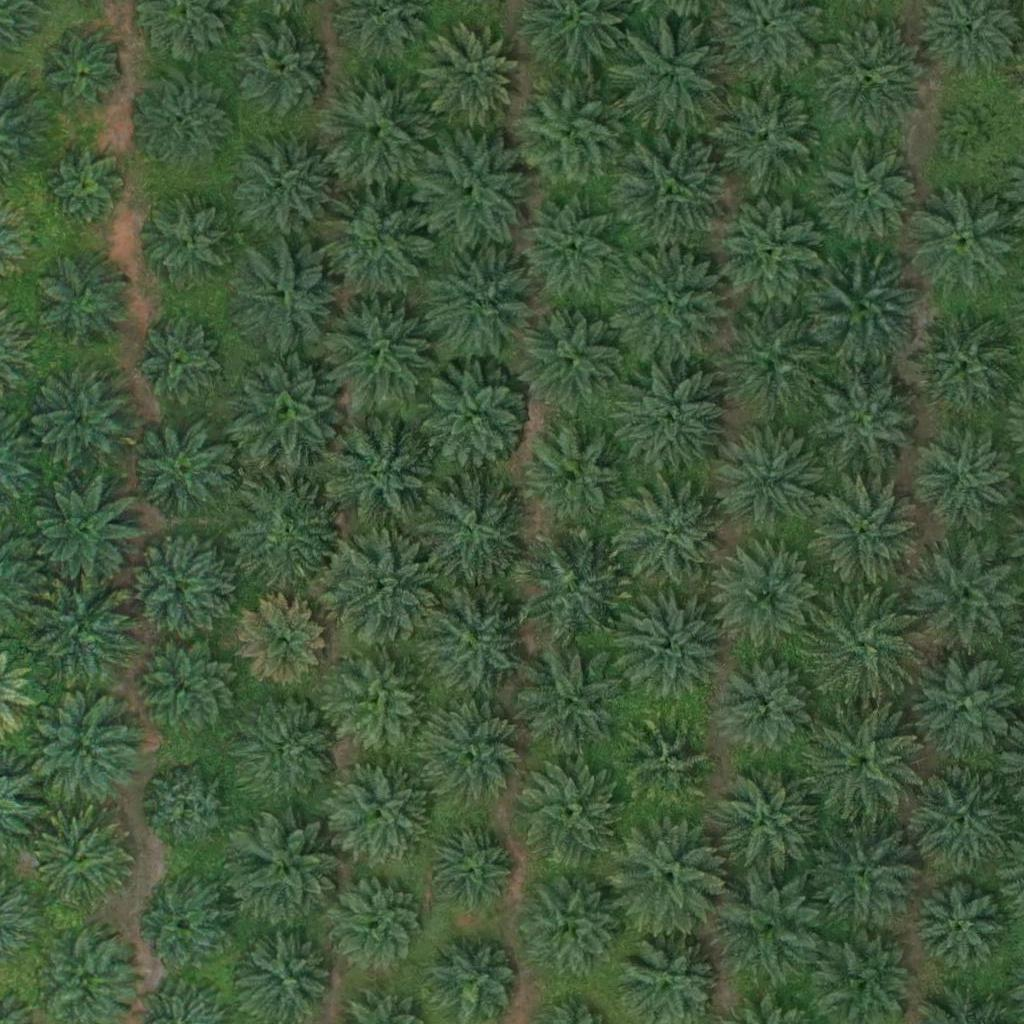Kelapa_Sawit: (28, 474, 141, 588), (511, 75, 624, 189), (616, 133, 729, 247), (616, 251, 729, 365), (715, 307, 828, 421), (716, 422, 829, 536), (25, 697, 138, 811), (615, 14, 728, 127), (224, 15, 337, 128), (225, 128, 338, 241), (231, 241, 344, 354), (231, 355, 344, 468), (321, 296, 434, 409), (323, 422, 436, 535), (326, 532, 439, 645), (612, 364, 725, 477), (619, 482, 732, 595), (712, 541, 825, 654), (908, 185, 1021, 298), (905, 307, 1018, 420), (807, 708, 920, 821), (806, 813, 919, 926), (709, 762, 822, 875), (418, 585, 531, 698), (26, 572, 139, 685), (717, 197, 829, 311), (809, 362, 921, 476), (808, 479, 920, 593), (911, 540, 1023, 654), (814, 23, 926, 136), (232, 477, 344, 590), (317, 74, 429, 187), (320, 190, 432, 303), (419, 134, 531, 247), (425, 246, 537, 359), (419, 358, 531, 471), (414, 471, 526, 584), (518, 301, 630, 414), (515, 531, 627, 644), (711, 79, 823, 192), (809, 255, 921, 368), (803, 588, 915, 701), (906, 767, 1018, 880), (715, 869, 827, 982), (613, 818, 725, 931), (512, 757, 624, 870), (908, 652, 1020, 765), (612, 585, 724, 698), (516, 644, 628, 757), (234, 820, 346, 933), (423, 23, 523, 124), (36, 247, 136, 348), (31, 372, 131, 473), (137, 197, 237, 298), (130, 420, 230, 521), (527, 424, 627, 525), (819, 144, 919, 245), (523, 877, 623, 978), (420, 699, 520, 800), (331, 650, 431, 751), (138, 636, 238, 737), (240, 696, 340, 797), (134, 71, 234, 171), (130, 536, 230, 636), (522, 202, 622, 302), (914, 427, 1014, 527), (330, 762, 430, 862), (328, 873, 428, 973), (32, 812, 132, 912), (623, 719, 711, 808), (44, 140, 132, 228), (134, 316, 222, 404), (238, 597, 326, 685), (244, 933, 332, 1021), (915, 886, 1002, 974), (425, 823, 512, 911), (724, 662, 811, 750), (146, 764, 233, 852), (147, 882, 234, 970), (44, 35, 119, 111), (945, 101, 1007, 164)
